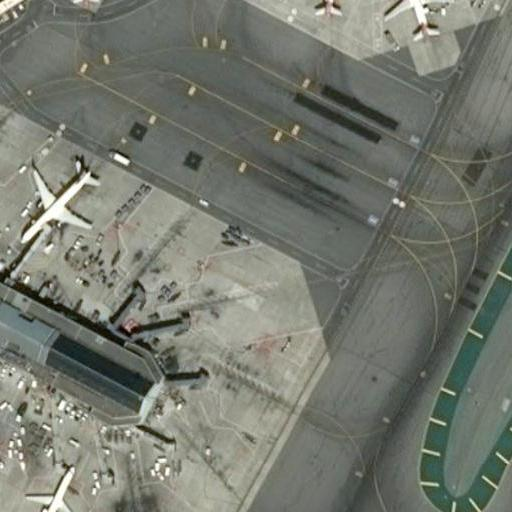Aircraft: (15, 156, 100, 240), (23, 462, 84, 512), (381, 5, 456, 42)
